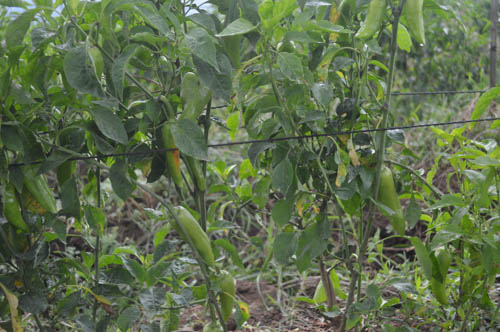ChiliPepper: (177, 210, 215, 263), (380, 169, 408, 236), (180, 74, 210, 129), (21, 169, 57, 214), (160, 120, 182, 183), (354, 3, 387, 45), (431, 246, 453, 308), (3, 188, 28, 230), (219, 271, 240, 320), (405, 2, 428, 44)
